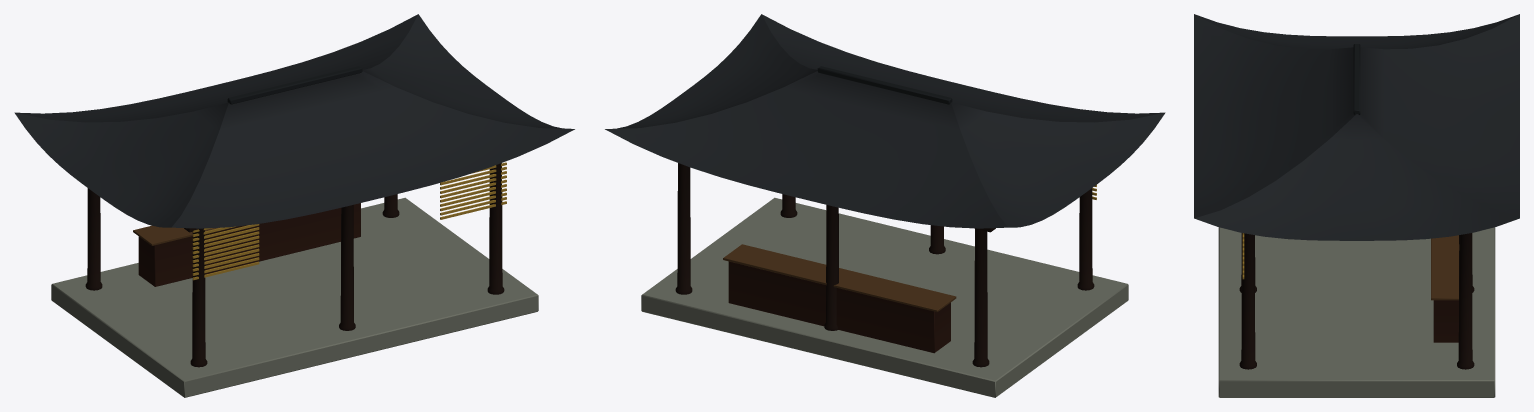
The model's file is hz-teahouse.glb.
3 views of the same model, side by side, from view 1: azimuth 30°, elevation 25°; view 2: azimuth 150°, elevation 25°; view 3: azimuth 270°, elevation 25° (orthographic). The views are drawn at different scales.
Visible parts, largest first — view 1: roof__tile, plinth__stone, counter__wood, columns__wood, blinds__bamboo; view 2: roof__tile, plinth__stone, counter__wood, columns__wood; view 3: roof__tile, plinth__stone, columns__wood, counter__wood.
Part boxes in pixels (box(x1,y1,x2,y2)): roof__tile: box(14, 14, 574, 228); plinth__stone: box(51, 197, 538, 397); counter__wood: box(133, 203, 360, 286); columns__wood: box(85, 163, 504, 367); blinds__bamboo: box(192, 162, 506, 280); roof__tile: box(605, 14, 1165, 228); plinth__stone: box(641, 197, 1128, 397); counter__wood: box(723, 244, 956, 353); columns__wood: box(675, 163, 1094, 367); roof__tile: box(1194, 14, 1519, 240); plinth__stone: box(1218, 227, 1495, 397); columns__wood: box(1239, 233, 1474, 369); counter__wood: box(1431, 235, 1459, 342).
Size of the model in its own units: 9.8 by 5.18 by 6.6.
